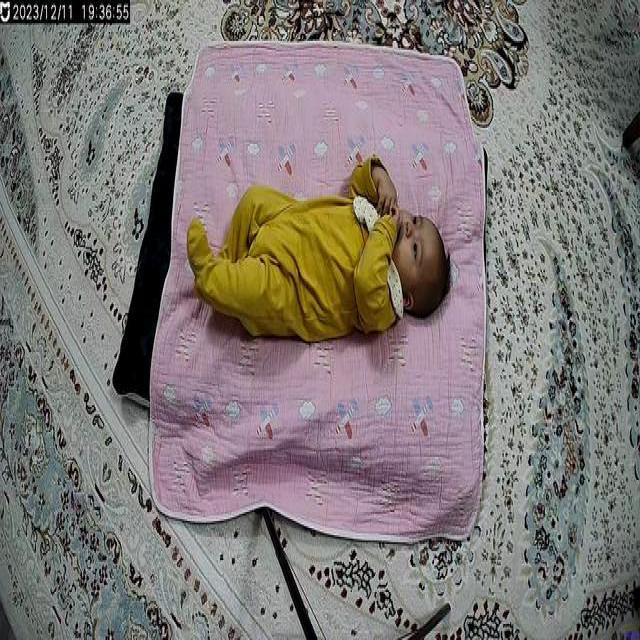baby: (190, 154, 450, 346)
